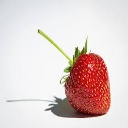strawberry: (61, 38, 112, 116)
